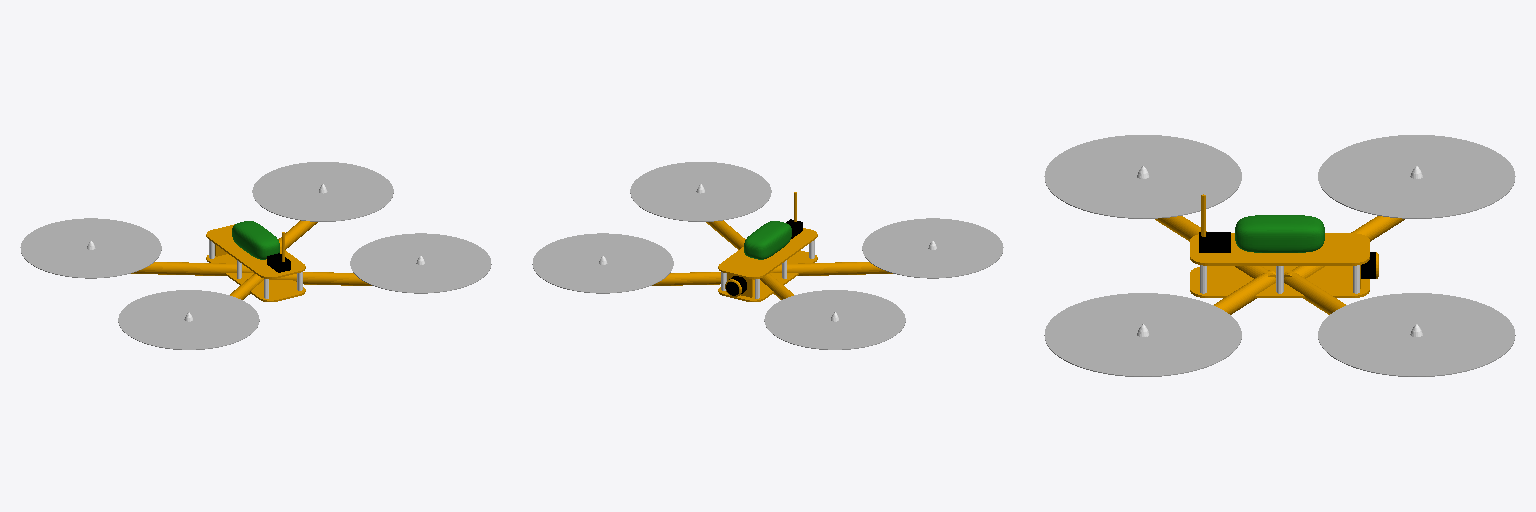
robot.urdf — qcopter:
<?xml version="1.0"?>
<robot name="qcopter"> -->
  <link name="base_link">
    <visual>
      <geometry>
        <mesh filename="package://pegasus_sim/viz/qcopter.dae"/>
      </geometry>
      <origin xyz="0 0 0" rpy="1.570792653 0 0"/>
    </visual>
  </link>
</robot>

--- What the picture shows (computed from the rendered views, not written in the file) ---
Views: 3 orthographic renders of the robot side by side, from view 1: azimuth 30°, elevation 25°; view 2: azimuth 150°, elevation 25°; view 3: azimuth 270°, elevation 25°.
Model qcopter with 1 links and 0 joints (none), rooted at base_link, posed all joints at 0.
Visible links, largest first — view 1: base_link; view 2: base_link; view 3: base_link.
Boxes of the visible links, x1=… form: base_link: x1=20, y1=162, x2=491, y2=349; base_link: x1=532, y1=162, x2=1003, y2=349; base_link: x1=1044, y1=135, x2=1515, y2=376.
Size in the robot's own frame: 0.637 by 0.5247 by 0.115 metres.
1 mesh visuals loaded from 1 distinct referenced files (1 Collada DAE).